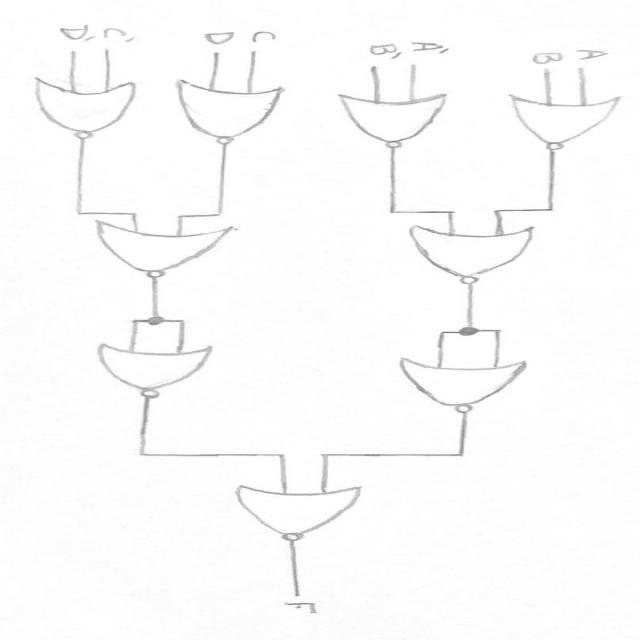NOR: (209, 478, 395, 544), (396, 221, 566, 293), (380, 351, 542, 426), (85, 222, 266, 282), (74, 342, 234, 408), (498, 87, 631, 159), (26, 70, 143, 146), (330, 84, 457, 154), (164, 78, 289, 146)
